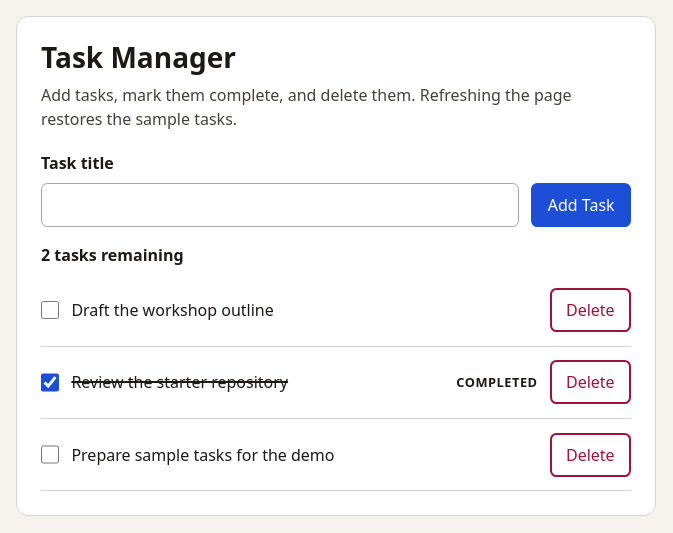
Scenario: Task Manager › shows the empty state after every task is deleted
The width and height of the screenshot is (673, 533).
What coordinates should you click on to do the following:
click the button "Delete" in the row of "Draft the workshop outline"
I would click on:
 (590, 310)
Its box is [550,288,631,332].
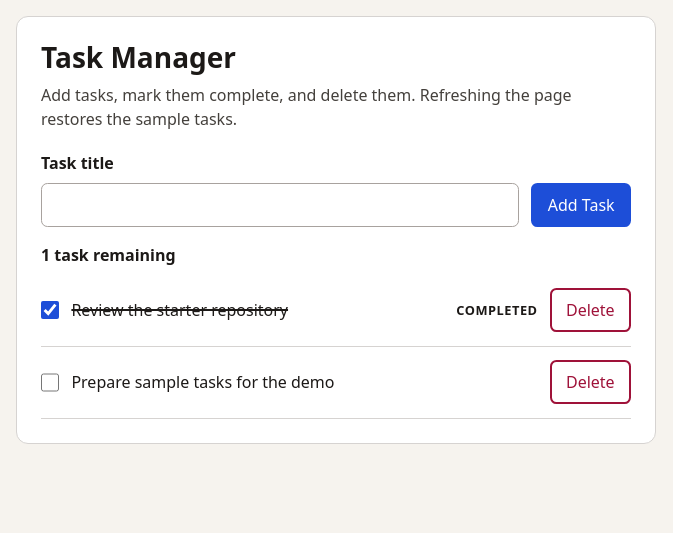
What coordinates should you click on to do the following:
click the button "Delete" in the row of "Review the starter repository"
I would click on:
 (590, 310)
Its box is [550,288,631,332].
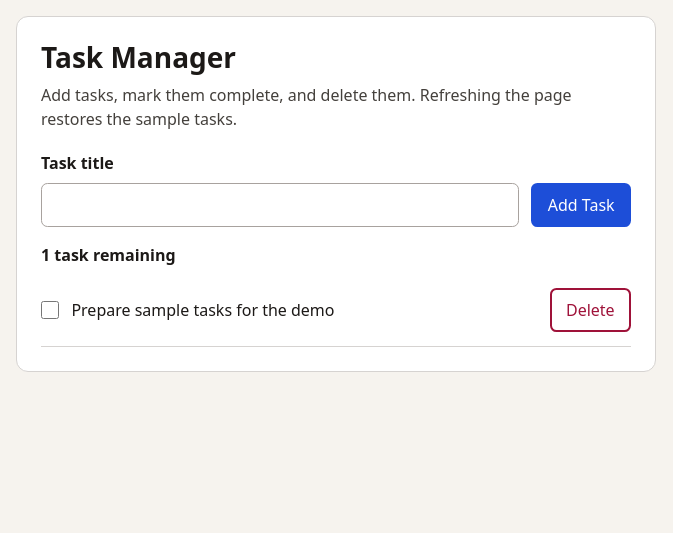
What coordinates should you click on to do the following:
click the button with aria-label "Delete Prepare sample tasks for the demo"
I would click on:
 (590, 310)
Its box is [550,288,631,332].
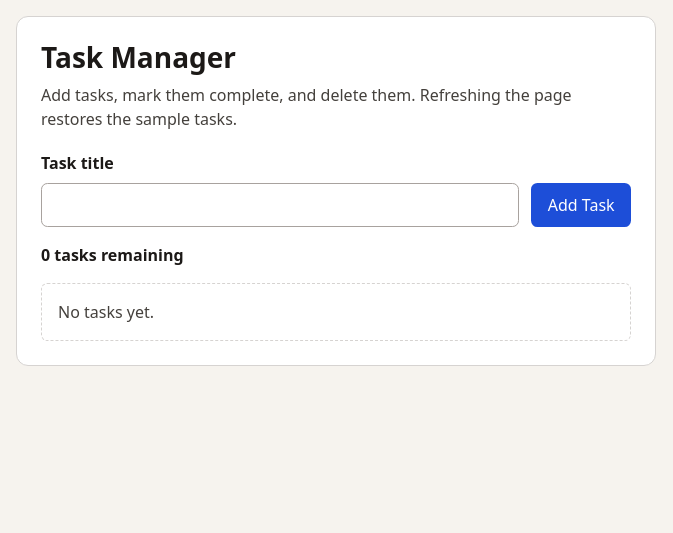
Result: the text "No tasks yet." is shown at [41,283,631,341]
Result: the text "0 tasks remaining" is shown at [41,244,184,266]
